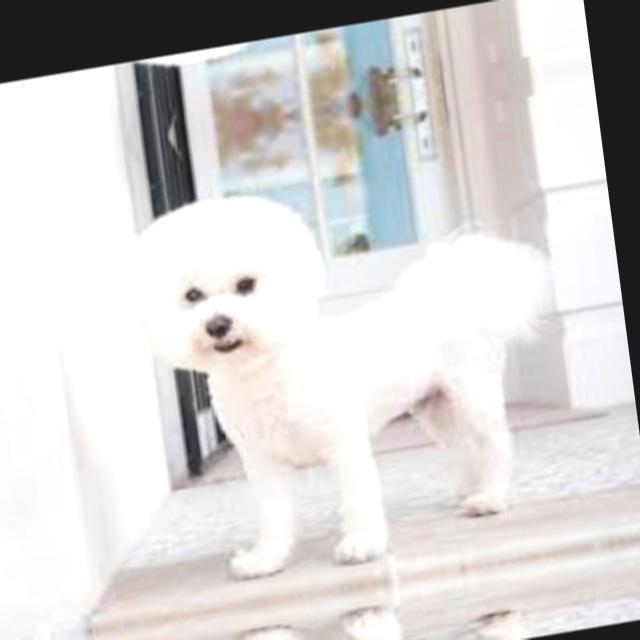dog: (119, 128, 616, 590), (101, 0, 552, 88), (176, 569, 631, 640)
